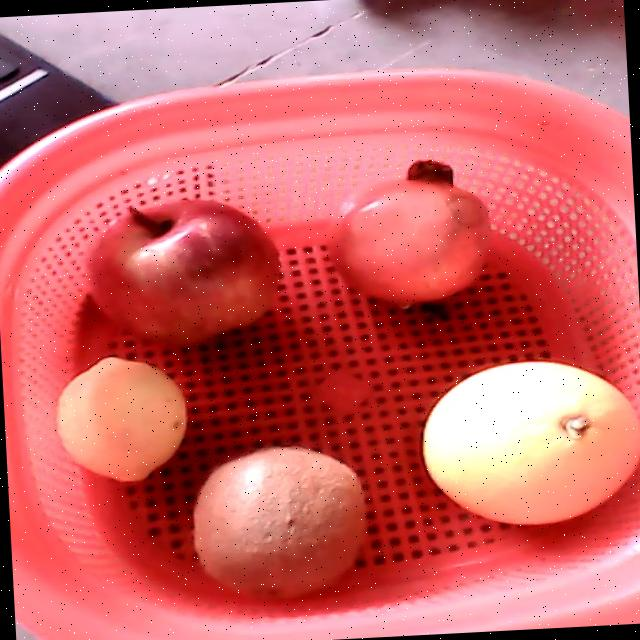apple: (86, 197, 281, 348)
kiwi: (192, 446, 365, 602)
lemon: (56, 355, 188, 483)
orange: (422, 361, 640, 524)
pomegranate: (328, 158, 492, 306)
